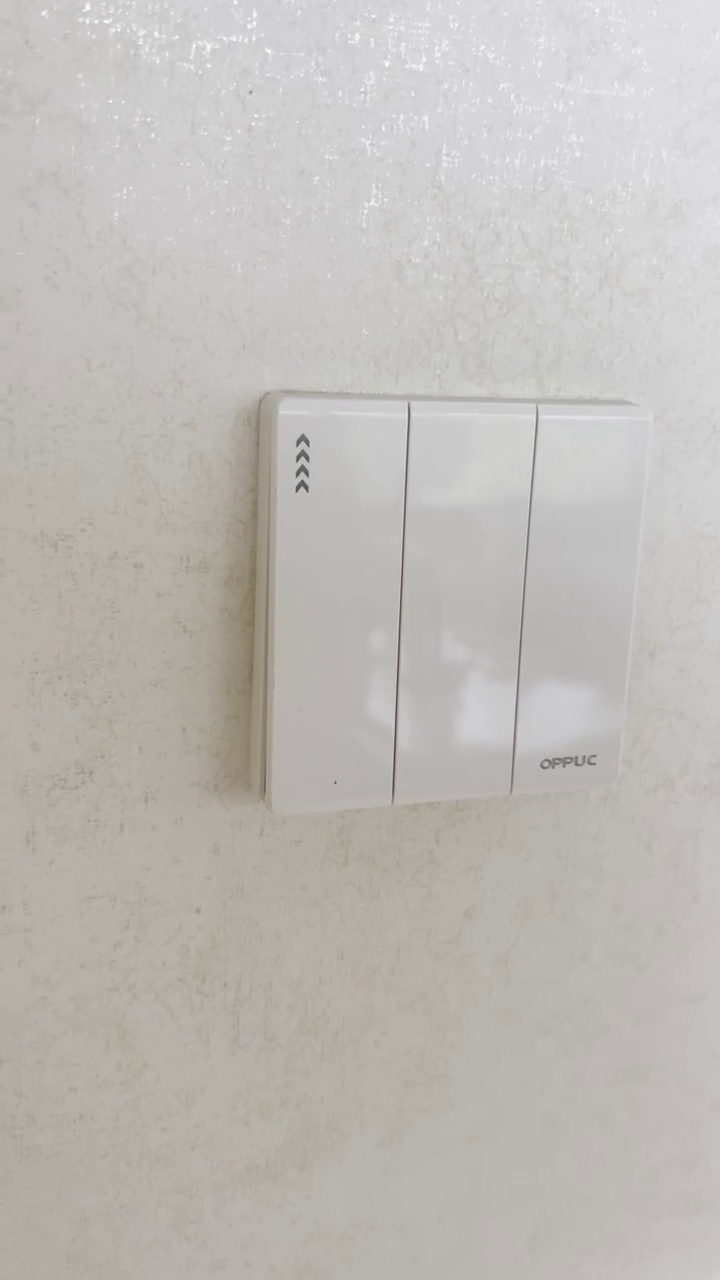button1: (269, 403, 404, 806), (400, 401, 524, 801), (519, 409, 637, 795)
